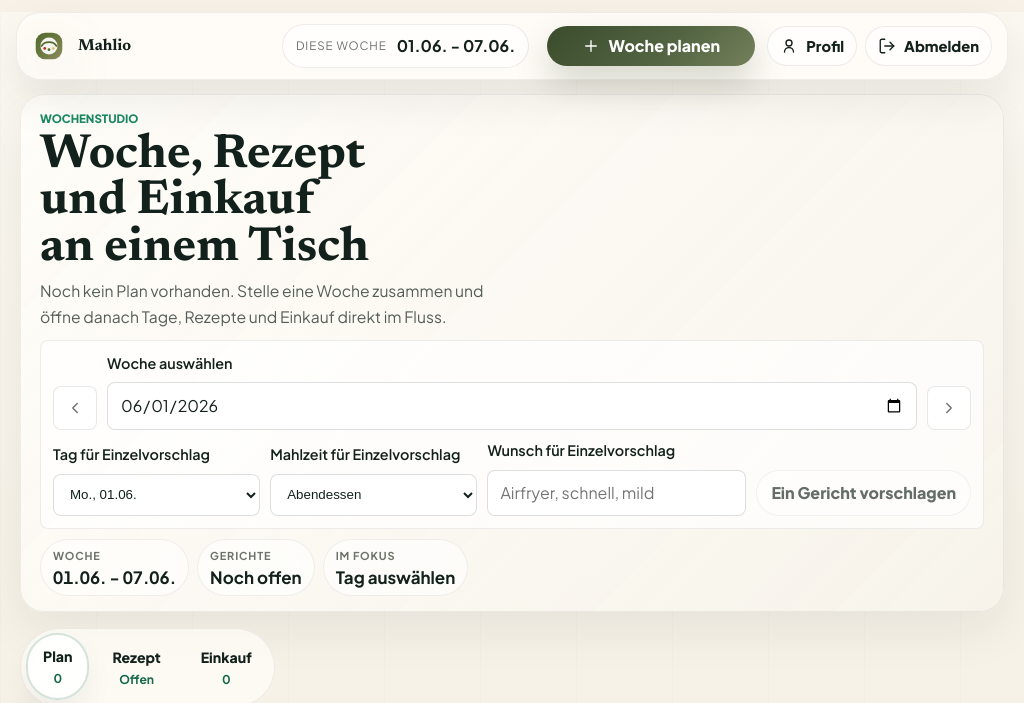
Test: Mealplanner app › shows feedback when plan generation fails
What coordinates should you click on to do the following:
click the button "Woche planen"
I would click on:
 (651, 46)
Its box is [547,26,755,66].
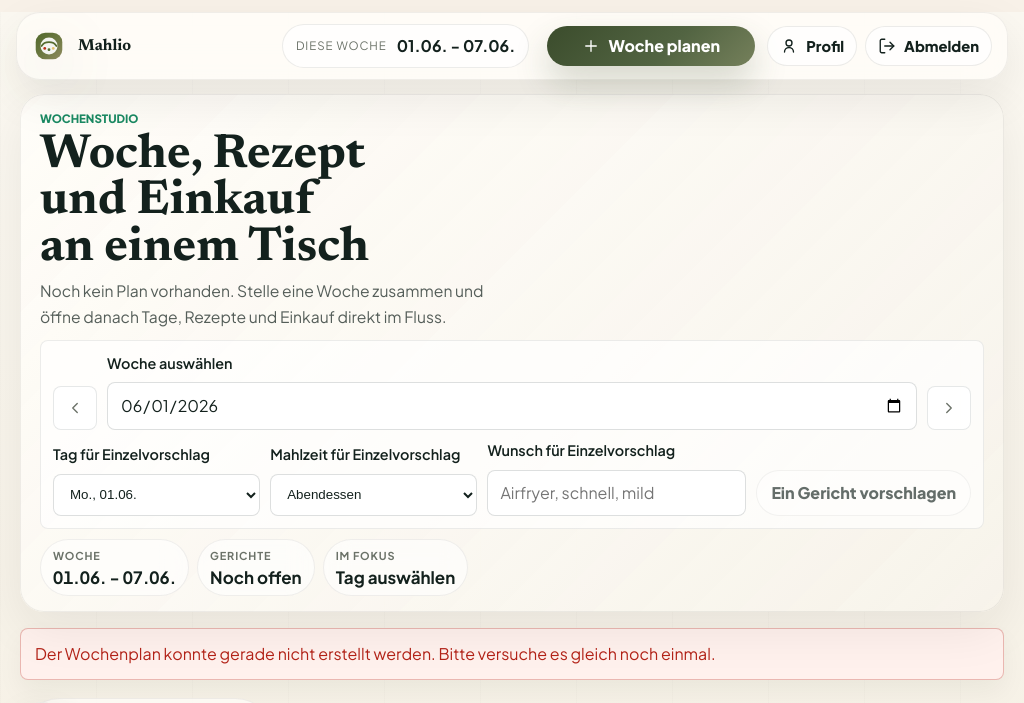
Check: the message shows "Der Wochenplan konnte gerade nicht erstellt werden. Bitte versuche es gleich noch einmal.", box [35,644,716,664]
